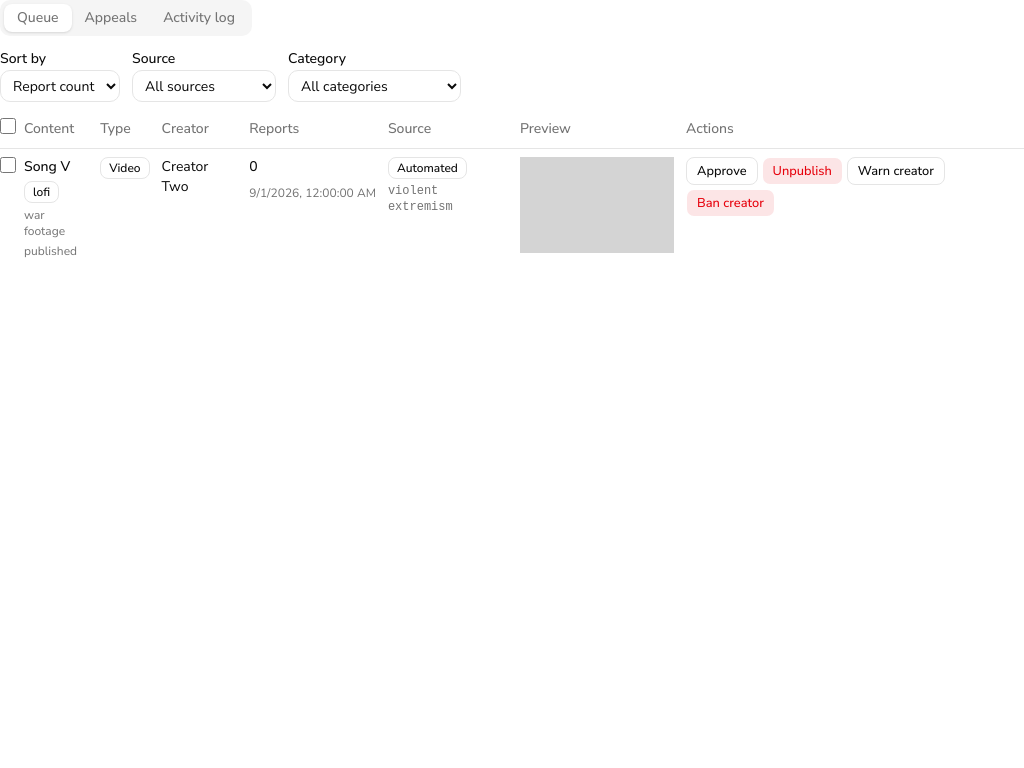
Test case: ModerationDashboard › unpublishes a video after confirmation, with the reason (#539)
Click the button "Unpublish". click: (802, 171)
box: [762, 157, 843, 185]
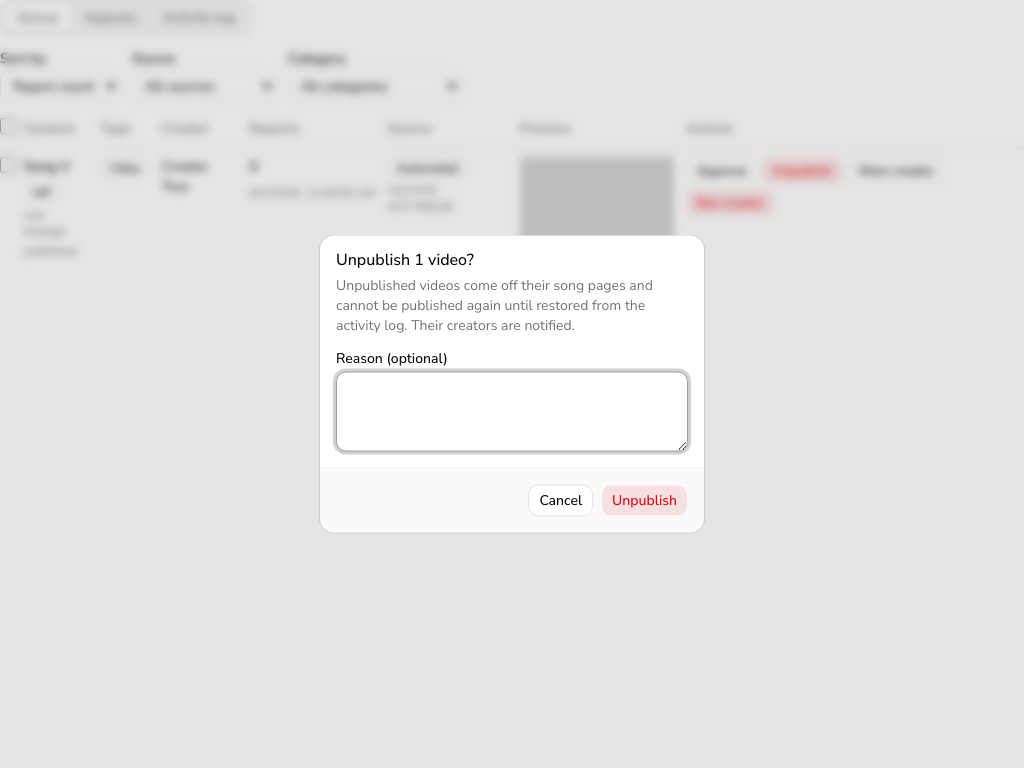
Result: the dialog shows "Unpublish 1 video?" at [320, 236, 704, 532]
Type "gore" into the text box labelled "Reason (optional)". click: (512, 412)
box: [336, 372, 688, 452]
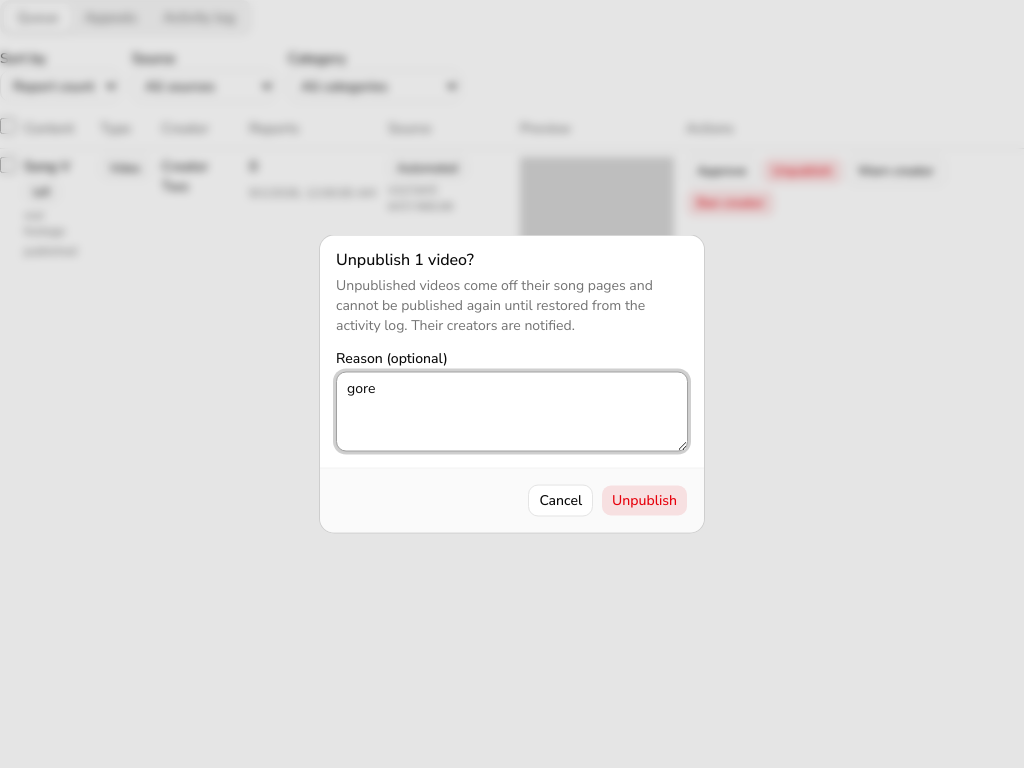
Click the button "Unpublish". click: (645, 500)
box: [601, 484, 688, 516]
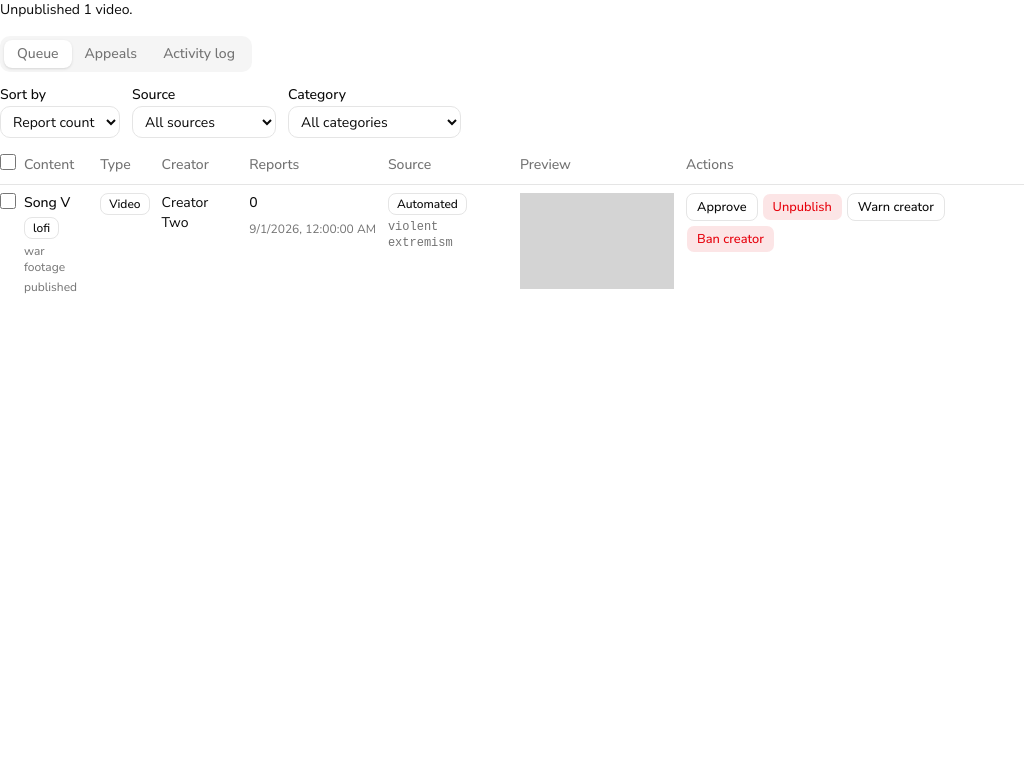
Result: the message reads "Unpublished 1 video." at [0, 0, 132, 19]
